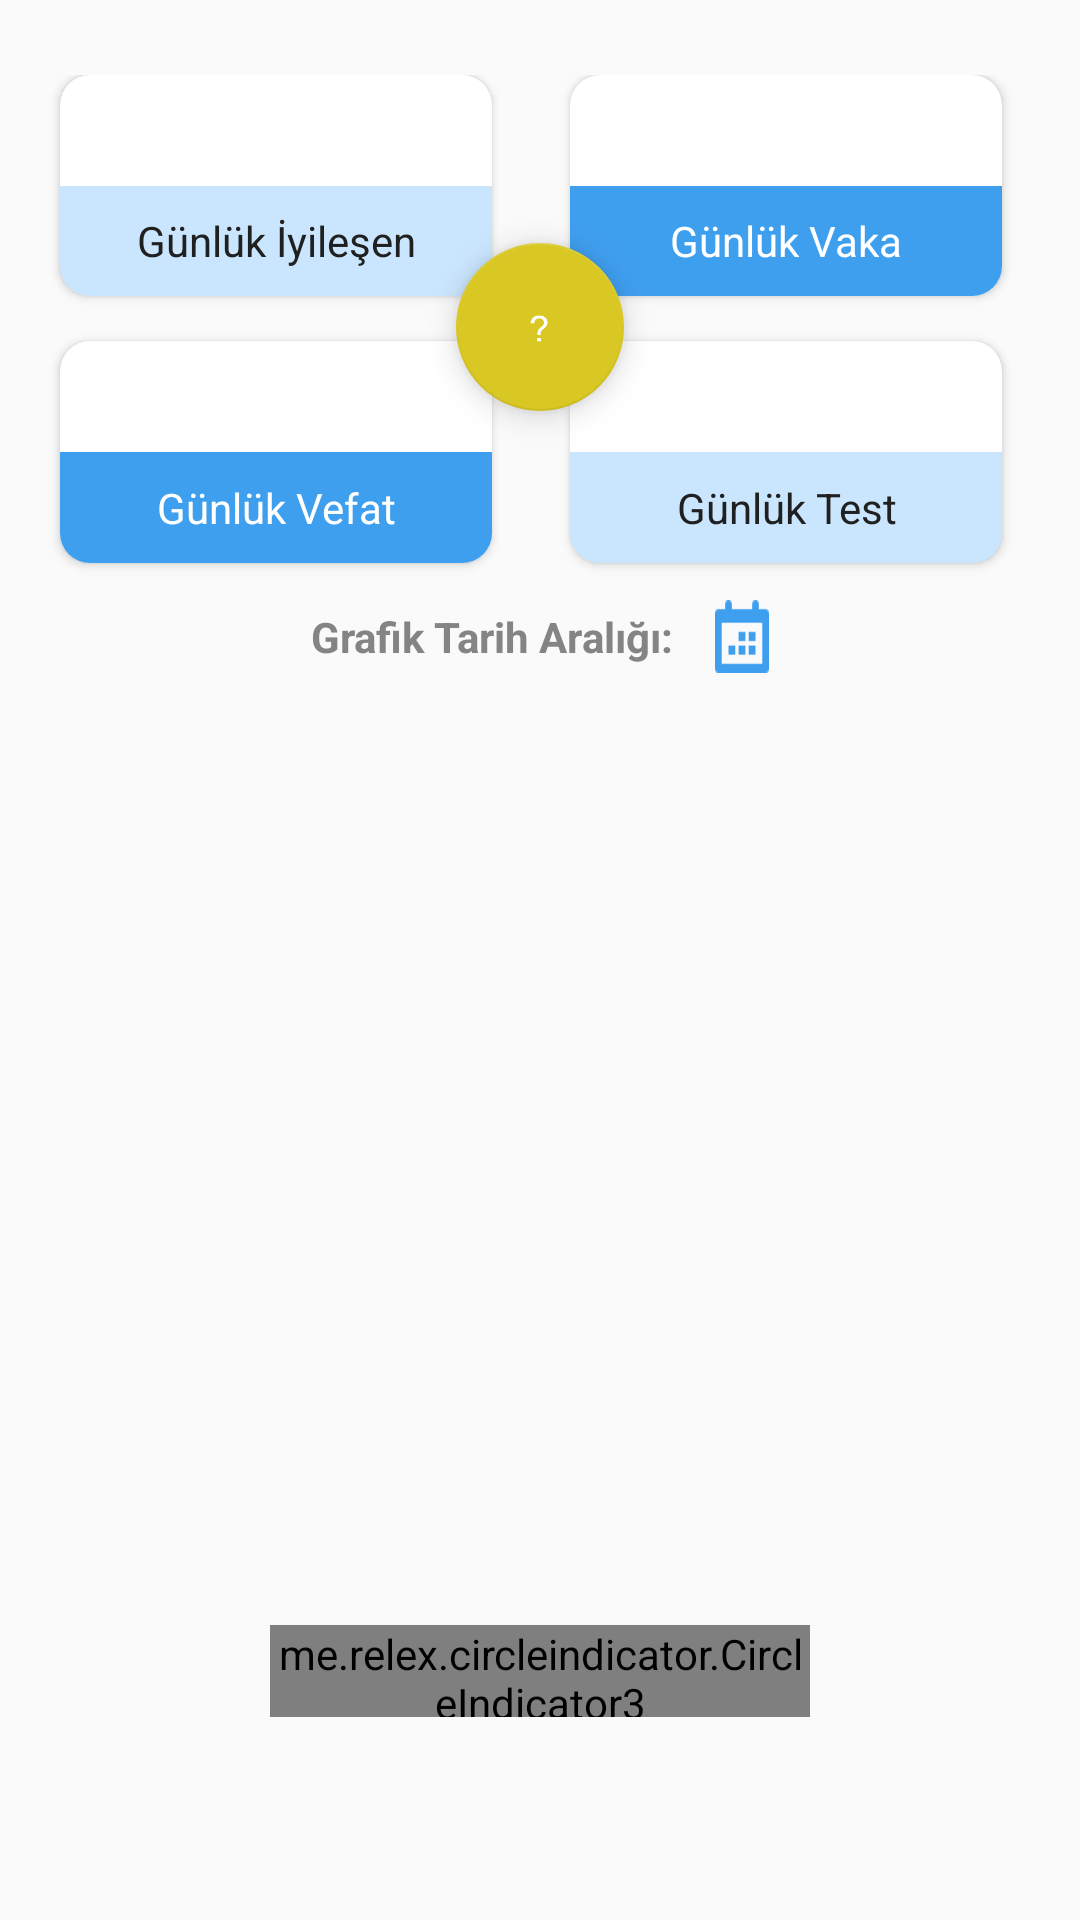

Screen size 1080x1920. Icon name, then its center in pixels as (x=x, y=y):
calendar: (x=742, y=636)
